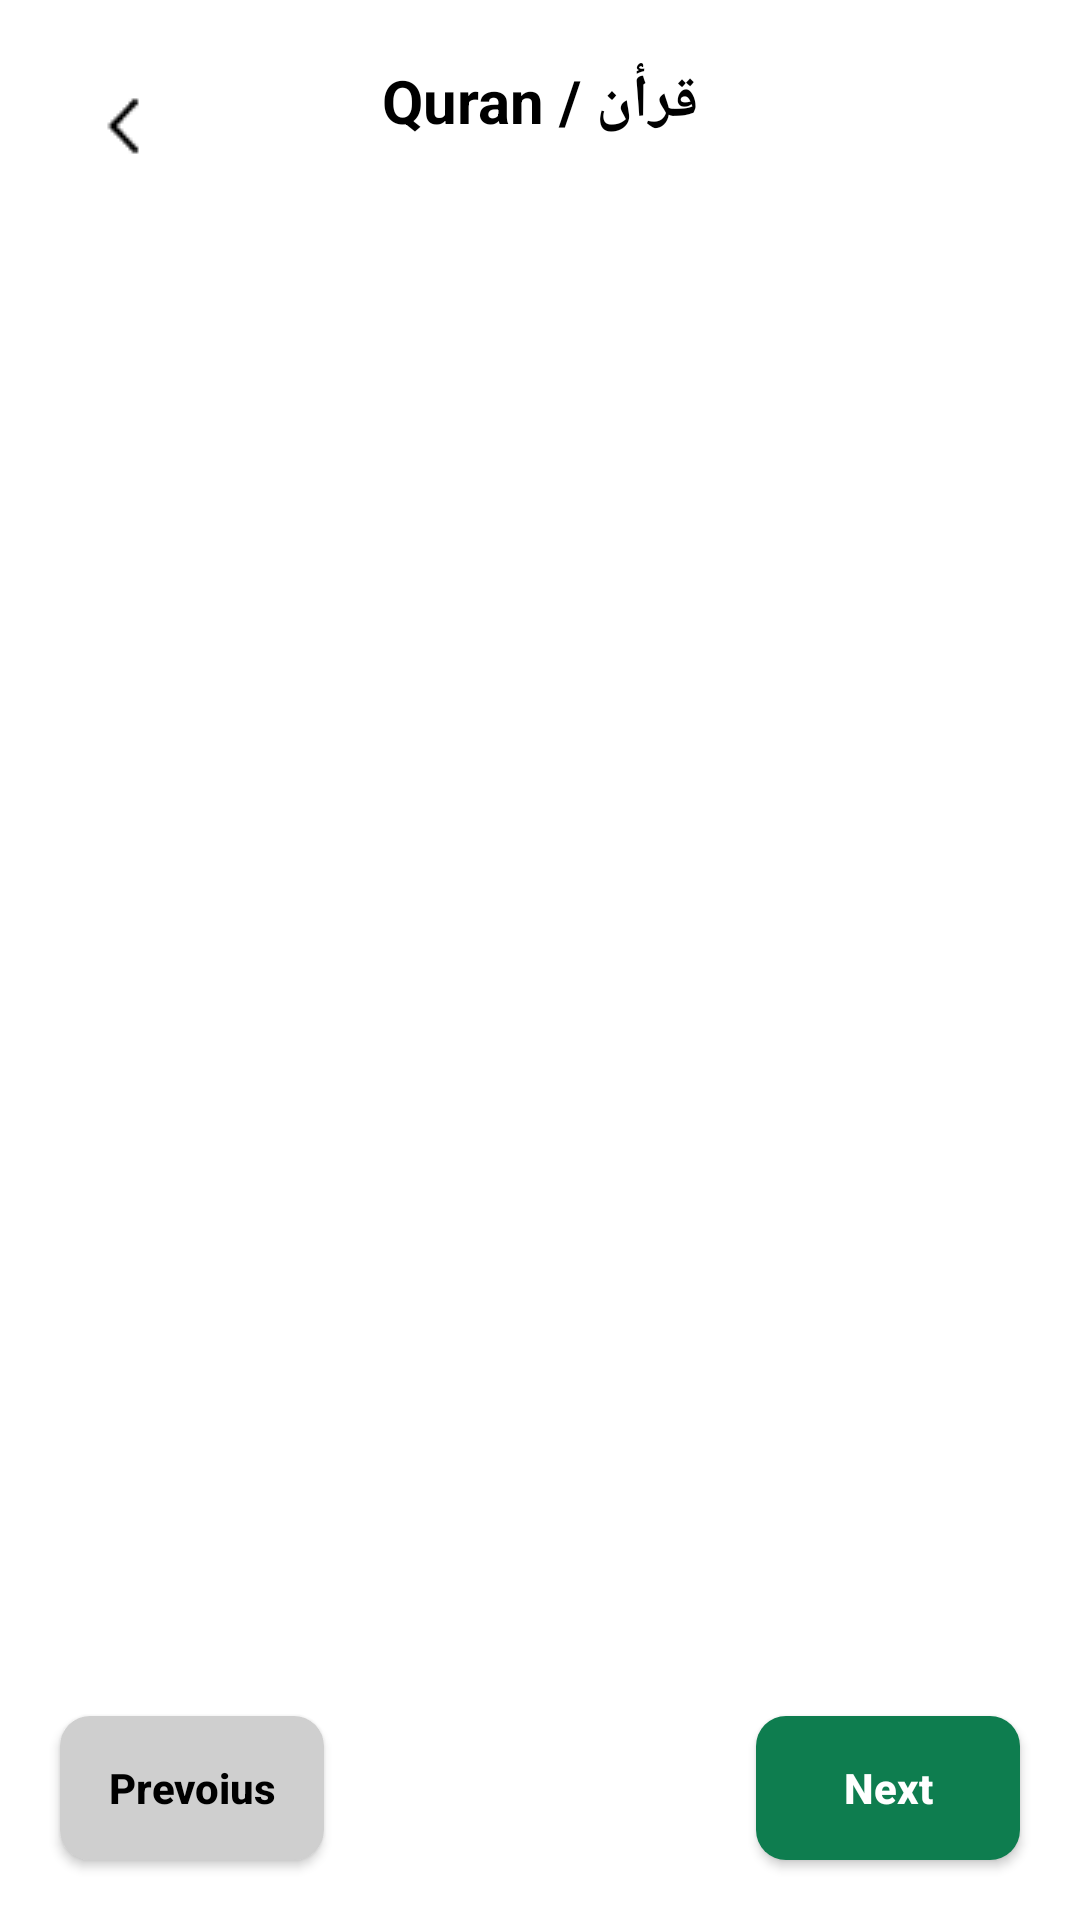

Named icons in this screenshot (1080x1920) and their centers, point (x, y):
arrow_left icon: point (123, 126)
